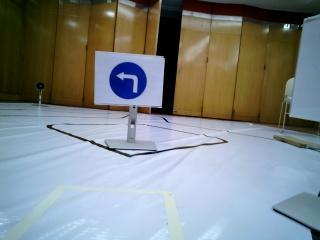left: (96, 50, 162, 104)
